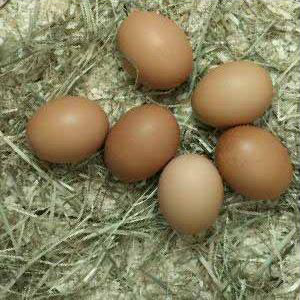egg: (103, 104, 180, 183), (117, 11, 194, 90), (216, 125, 293, 200), (26, 97, 109, 164), (190, 62, 273, 128), (158, 154, 223, 236)
